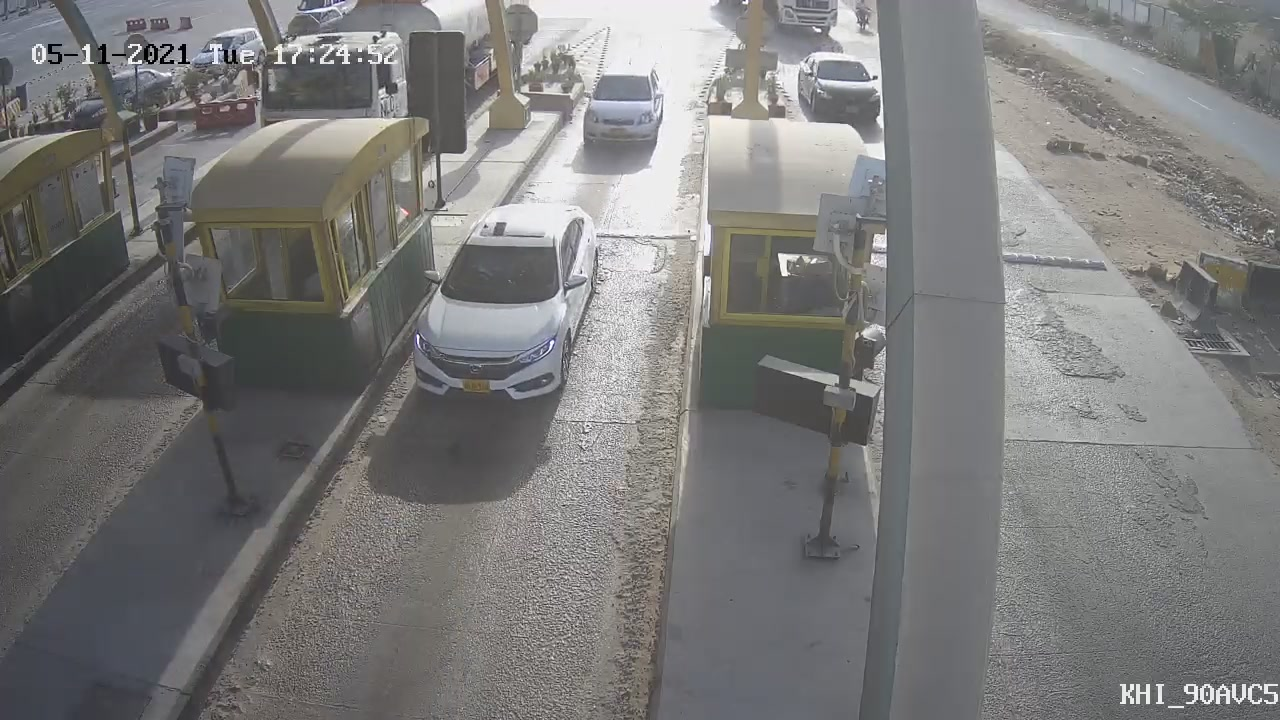F1: (379, 186, 622, 430), (565, 51, 674, 165)
